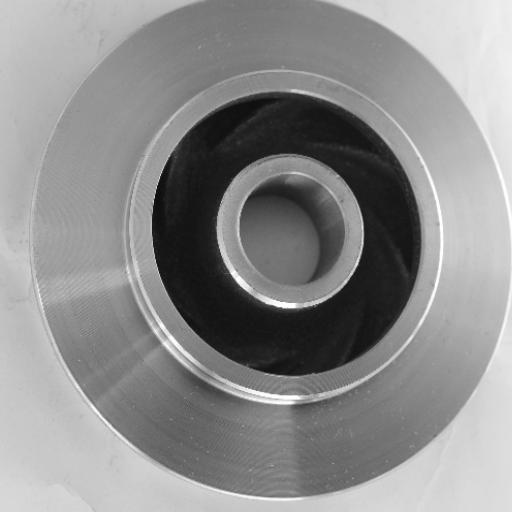polished_casting: (29, 1, 510, 499)
